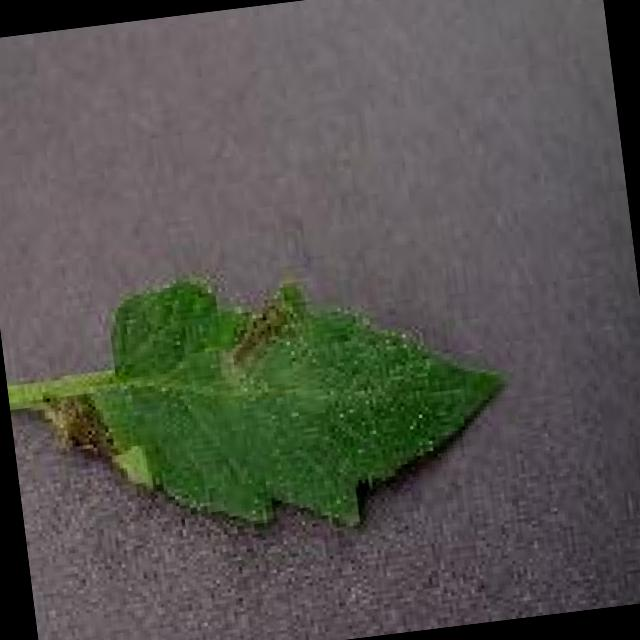leaf blight: (5, 281, 502, 537)
